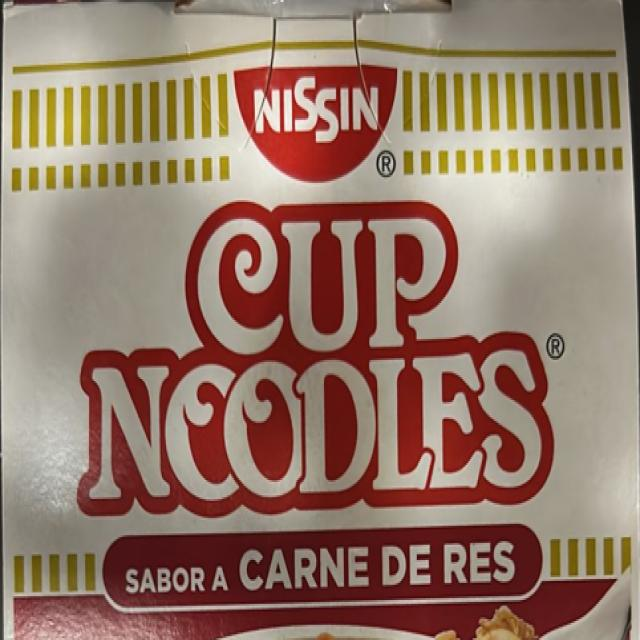nissinRes: (2, 5, 640, 640)
